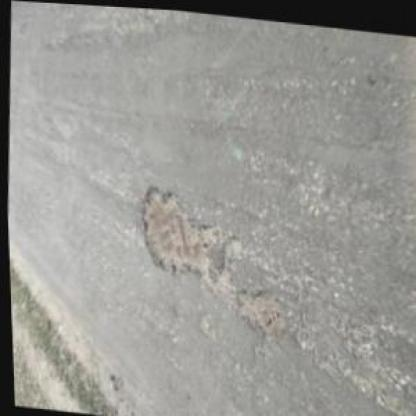pothole: (132, 181, 216, 278), (229, 283, 284, 341)
